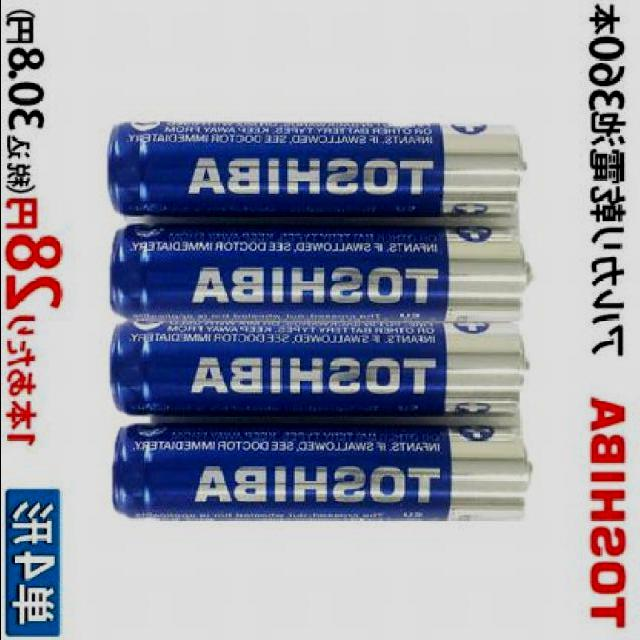AA: (89, 114, 529, 220), (105, 423, 538, 526), (101, 317, 532, 420), (98, 224, 537, 324)
